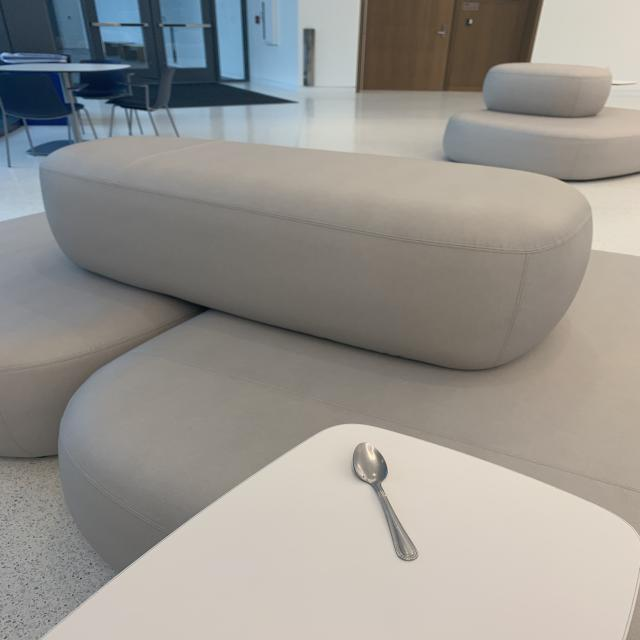Spoon: (338, 436, 428, 564)
